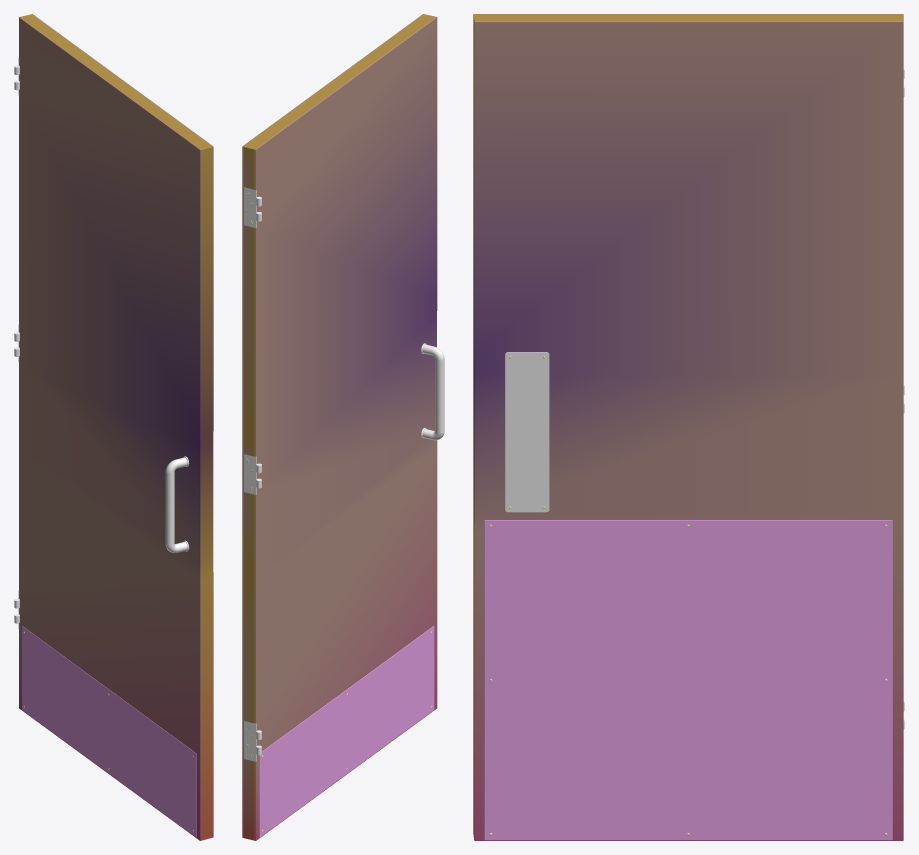
Rendered from Kit_DoorLeaf_Ward.fbx.
3 renders of one model, left to right at view 1: azimuth 30°, elevation 25°; view 2: azimuth 150°, elevation 25°; view 3: azimuth 270°, elevation 25°, orthographic. The views are drawn at different scales.
Parts seen in each view (by area): view 1: Kit_DoorLeaf_Ward_LOD0; view 2: Kit_DoorLeaf_Ward_LOD0; view 3: Kit_DoorLeaf_Ward_LOD0.
Boxes of the visible parts, x1,y1,x2,y2 form: Kit_DoorLeaf_Ward_LOD0: (14,14,213,840); Kit_DoorLeaf_Ward_LOD0: (242,14,444,840); Kit_DoorLeaf_Ward_LOD0: (473,14,904,840).
Size of what is drawn, in the model's own units: 0.1104 by 2.08 by 0.9925.
